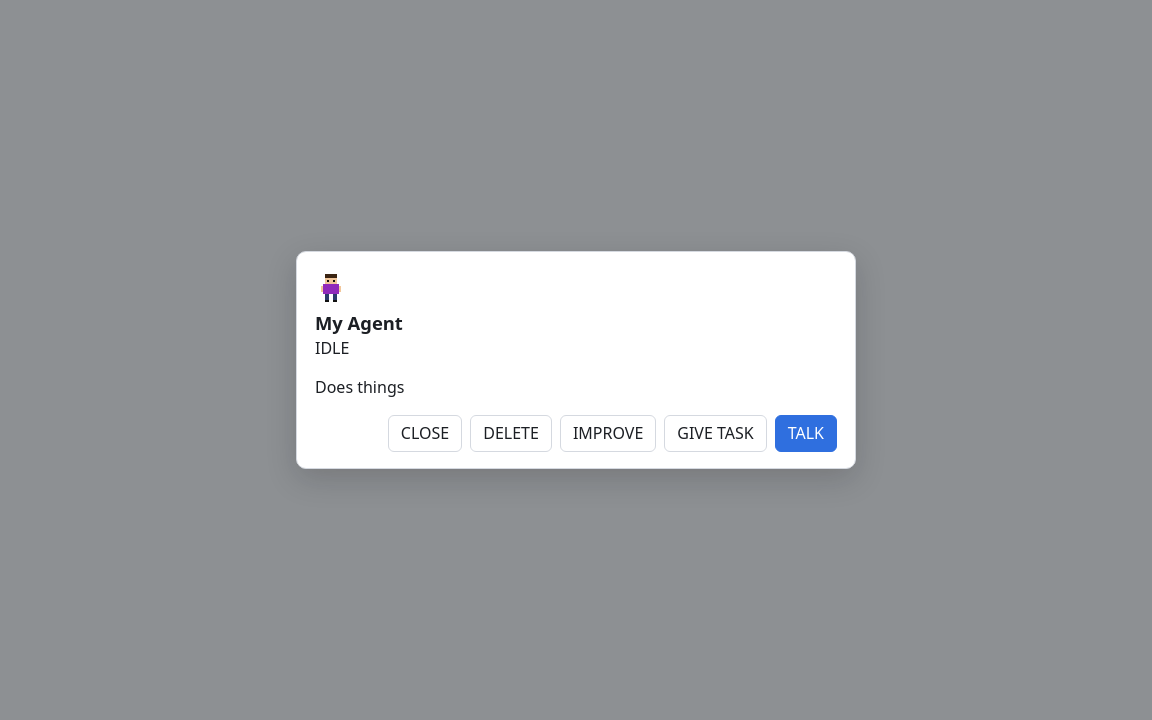
Test: TALK opens the ChatPanel for the agent
Click the button "TALK" at (806, 434), box [775,415,837,452]
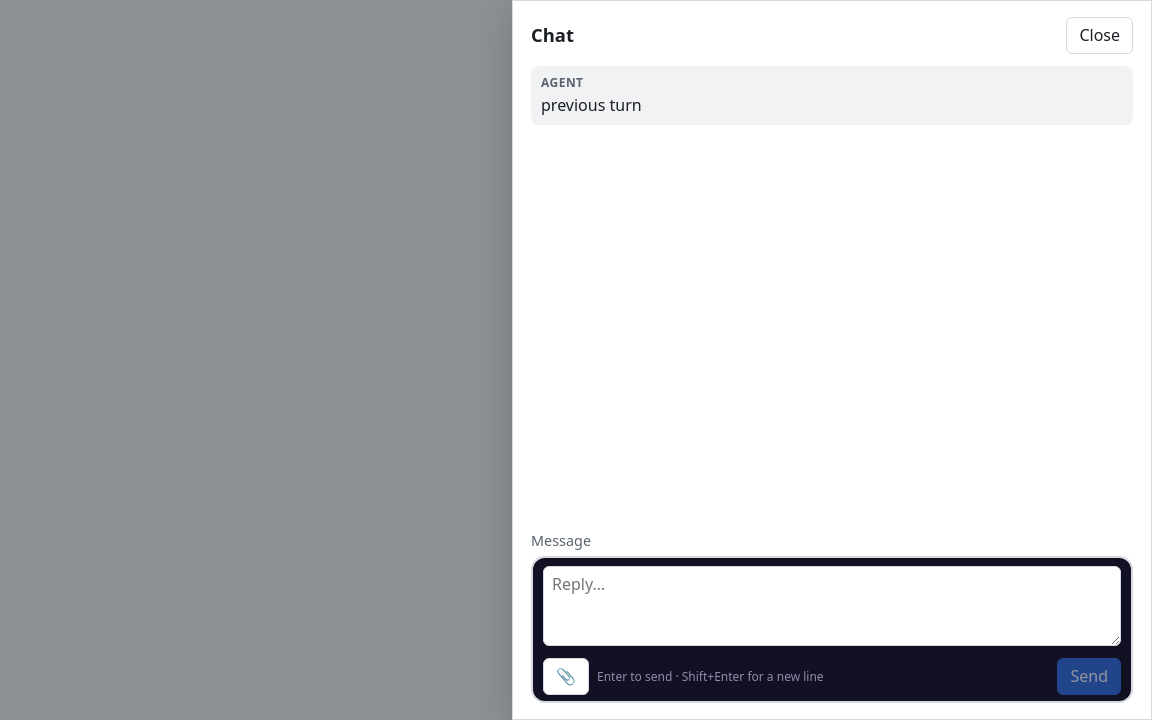
Now the text "previous turn" is shown, box [541,94,642,116]
